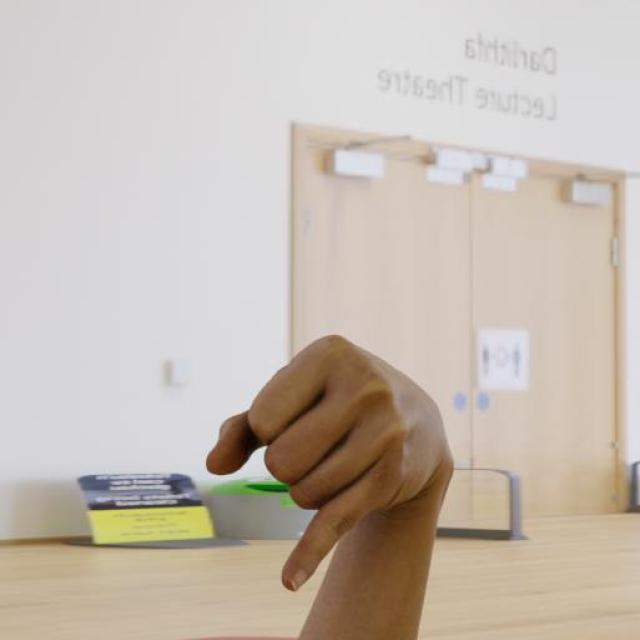J: (204, 330, 457, 594)
